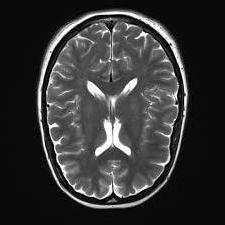Normal_Brain: (28, 4, 212, 225)
